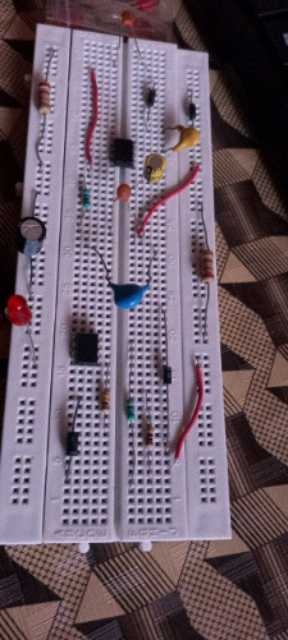capacitor: (106, 277, 152, 312), (16, 214, 45, 258), (169, 123, 201, 152), (142, 152, 167, 187), (114, 183, 133, 204), (120, 10, 137, 30)
resistor: (199, 247, 215, 291), (37, 79, 51, 119), (101, 388, 113, 417), (125, 395, 135, 423), (145, 424, 154, 453), (81, 188, 91, 213)
